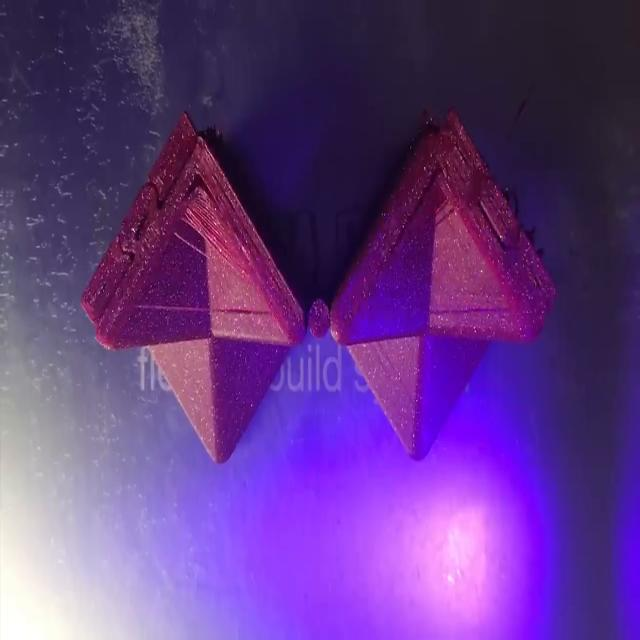spaghetti: (497, 180, 548, 264)
